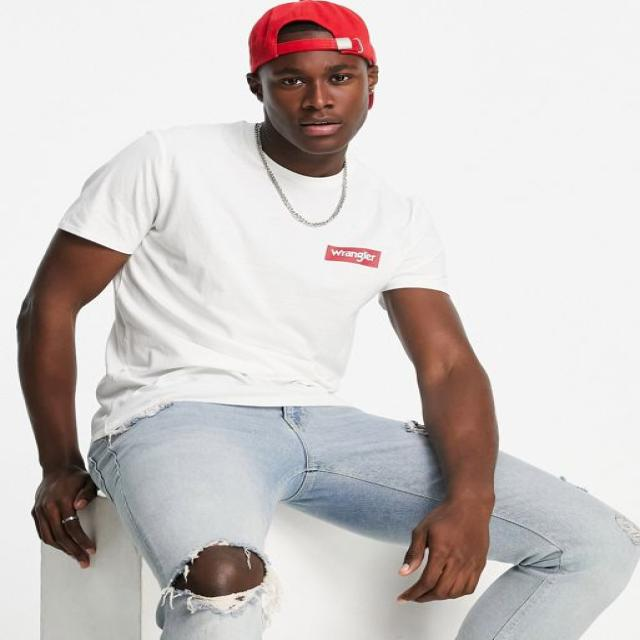tshirt: (55, 117, 452, 436)
